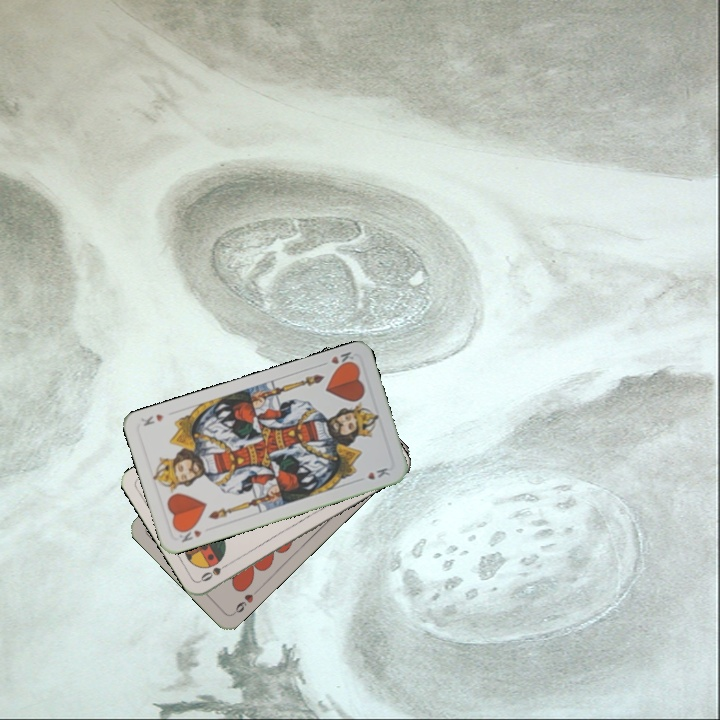H9: (228, 585, 261, 617)
HK: (316, 347, 357, 372), (175, 522, 204, 545)
SO: (196, 558, 233, 584)
